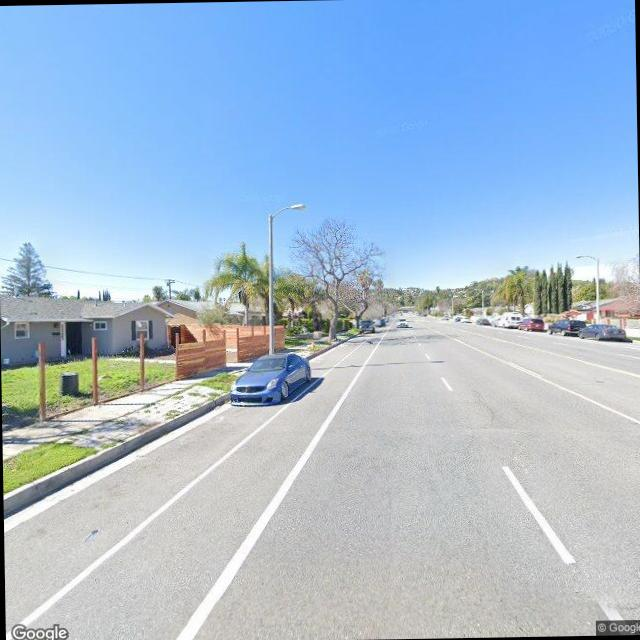pothole: (468, 381, 497, 426)
